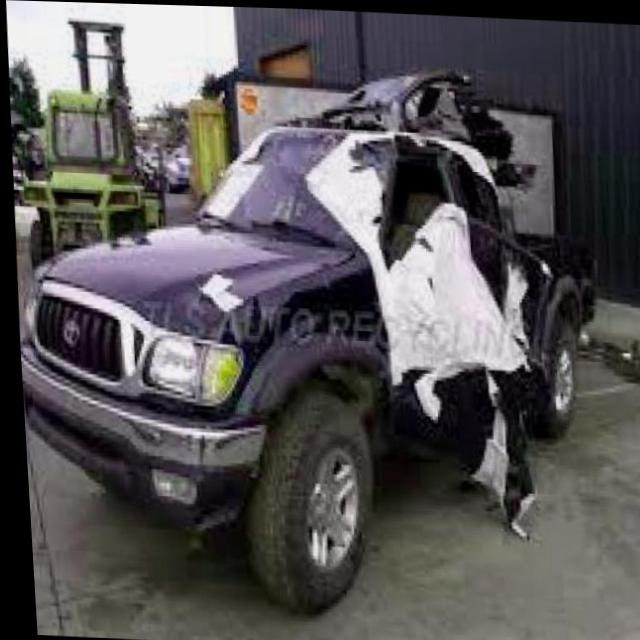Car-Damage: (296, 60, 567, 549)
